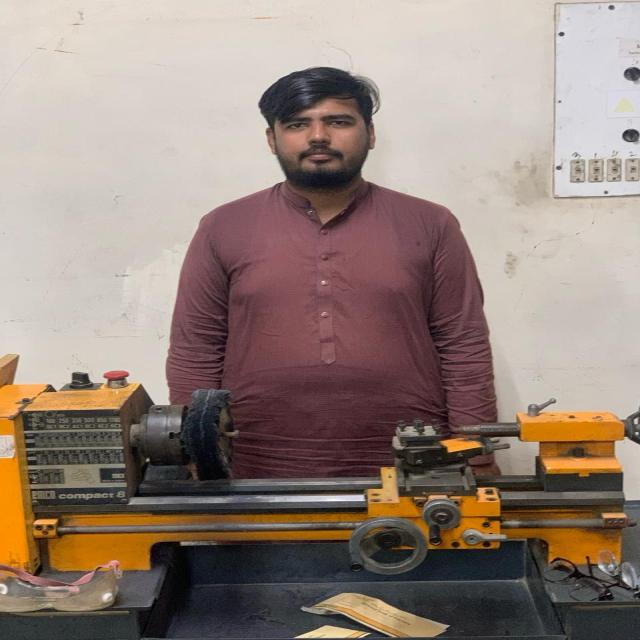dress: (157, 173, 511, 485)
